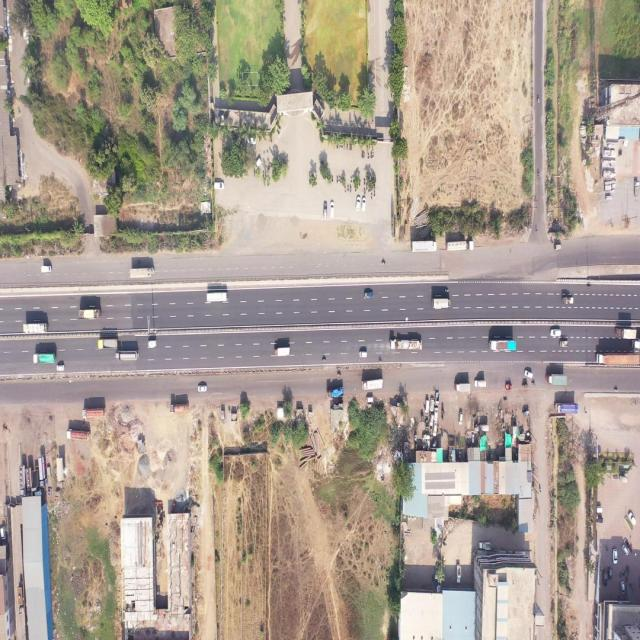3W: (520, 406, 529, 415), (503, 382, 511, 391), (554, 243, 562, 251), (520, 383, 528, 389)
Cars: (98, 337, 118, 349), (628, 507, 637, 526), (246, 134, 257, 146), (621, 542, 629, 557), (612, 546, 619, 563), (329, 200, 335, 219), (254, 156, 262, 170), (213, 180, 224, 190), (362, 290, 374, 299), (550, 329, 562, 337), (323, 201, 328, 219), (603, 569, 608, 587), (358, 350, 368, 359), (41, 265, 51, 274), (524, 369, 534, 378), (198, 382, 207, 392), (56, 363, 65, 372), (362, 196, 367, 212), (458, 411, 463, 426), (423, 400, 428, 414), (356, 196, 360, 212), (429, 398, 433, 414), (621, 580, 625, 595), (433, 410, 437, 424), (365, 396, 373, 403), (428, 415, 432, 427)
LCV: (476, 539, 491, 550), (561, 294, 574, 306), (455, 562, 461, 585), (472, 378, 486, 386), (148, 339, 157, 349), (559, 340, 569, 347)
M2W: (136, 258, 142, 266), (377, 353, 382, 362), (321, 356, 326, 364), (531, 381, 537, 387), (537, 168, 540, 178), (537, 486, 542, 492), (587, 282, 591, 289), (363, 176, 366, 185), (370, 192, 373, 201), (331, 175, 334, 184), (264, 171, 267, 180), (339, 175, 342, 184), (367, 152, 370, 160), (382, 260, 386, 266), (363, 149, 365, 159), (445, 289, 449, 294), (350, 175, 352, 184), (336, 174, 338, 183), (346, 182, 348, 191), (372, 151, 374, 160), (341, 143, 343, 150), (346, 143, 348, 150), (344, 186, 346, 193), (349, 185, 351, 192)
MAV: (593, 352, 639, 367), (388, 337, 421, 350), (445, 239, 474, 252), (22, 322, 48, 333), (115, 350, 139, 360)
Truck: (488, 338, 517, 352), (64, 427, 90, 442), (552, 400, 578, 413), (545, 372, 570, 385), (411, 240, 438, 252), (80, 408, 106, 420), (432, 296, 452, 311), (77, 307, 102, 319), (205, 292, 229, 304), (129, 268, 157, 278), (32, 352, 57, 363), (326, 386, 344, 401), (614, 327, 638, 338), (167, 403, 187, 416), (361, 379, 384, 390), (272, 346, 291, 358), (453, 380, 470, 391)
